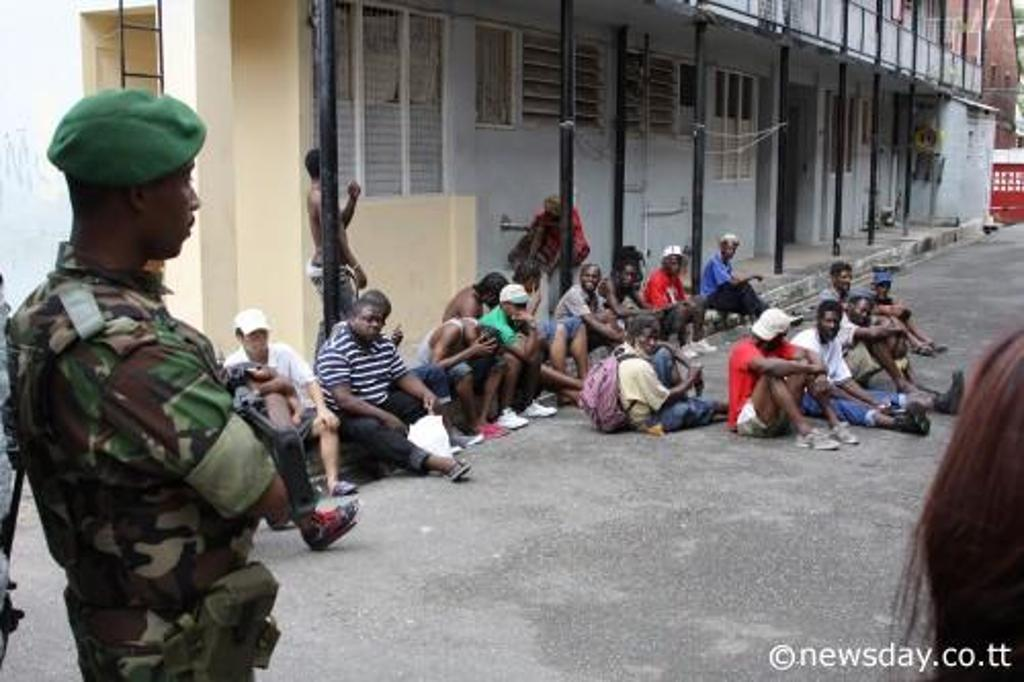face: (131, 161, 201, 260), (357, 305, 383, 340), (243, 328, 266, 353), (850, 299, 871, 324), (822, 311, 841, 338), (640, 328, 659, 355), (620, 265, 637, 287), (582, 267, 598, 290), (486, 288, 504, 307), (508, 300, 527, 317), (838, 270, 853, 291), (527, 276, 540, 292), (669, 256, 681, 273), (726, 244, 738, 258), (878, 282, 890, 294)
